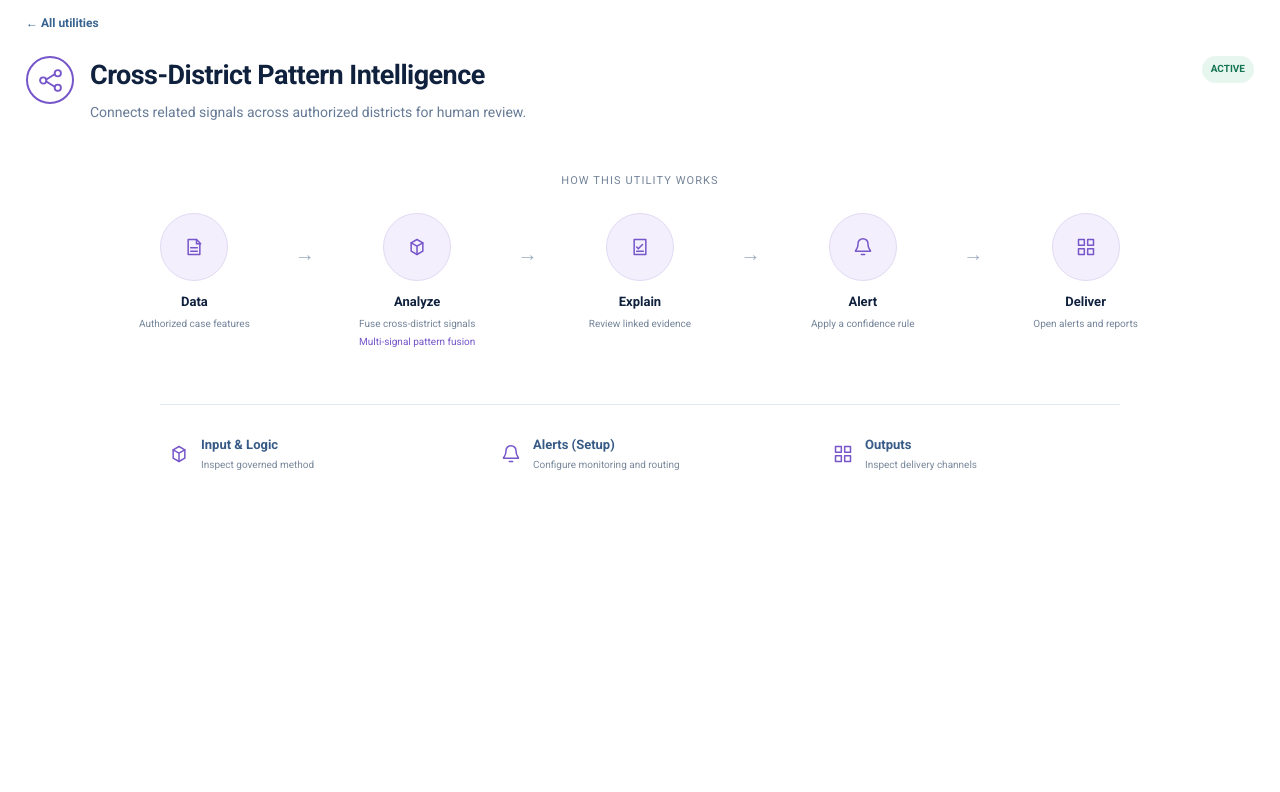
presents alert configuration as setup, routing and human action without automation claims
This screenshot has width=1280, height=792.
Expected: the heading "Cross-District Pattern Intelligence" is shown, [90, 56, 526, 96]
Click the button "Alerts (Setup)": x=574, y=444 [492, 427, 788, 481]
(page scrolled)
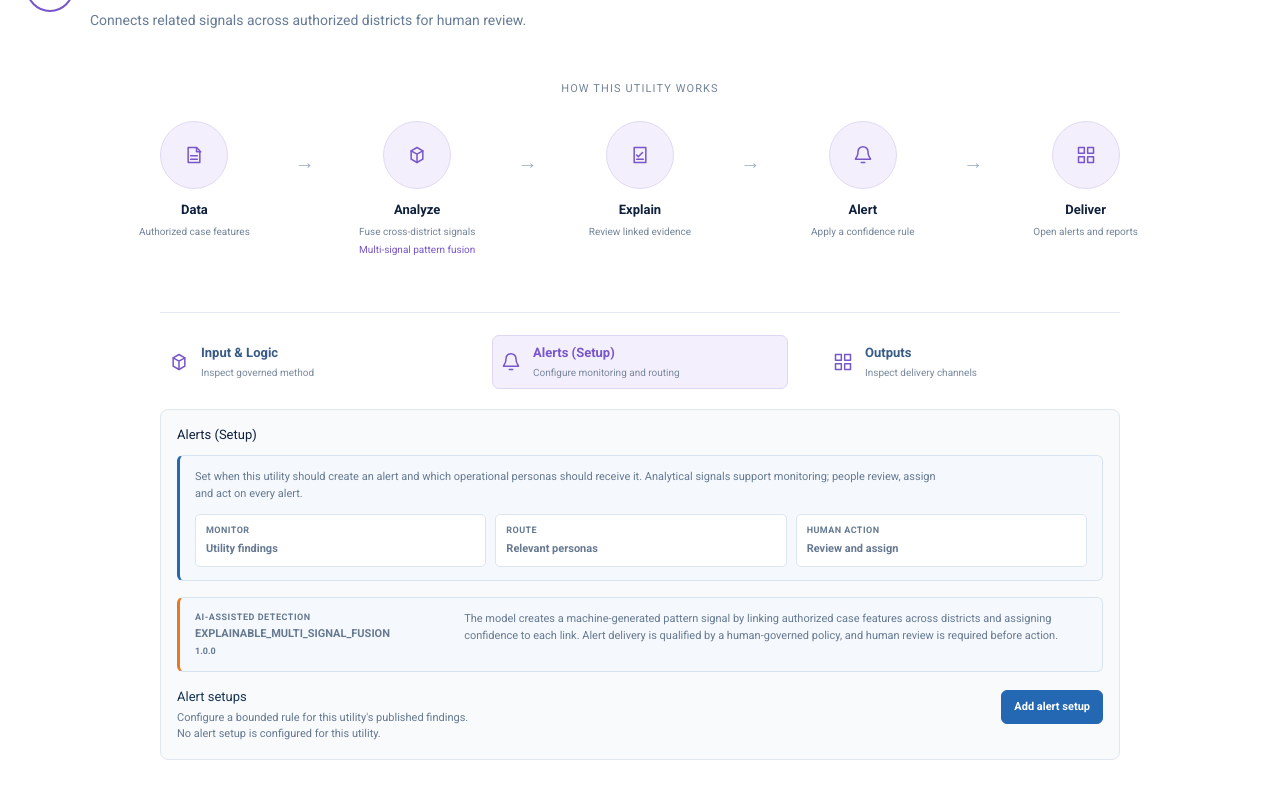
Now the text "Monitor" is shown, box [206, 525, 250, 535]
Now the text "Route" is shown, box [506, 525, 537, 535]
Now the text "Human action" is shown, box [807, 525, 880, 535]
